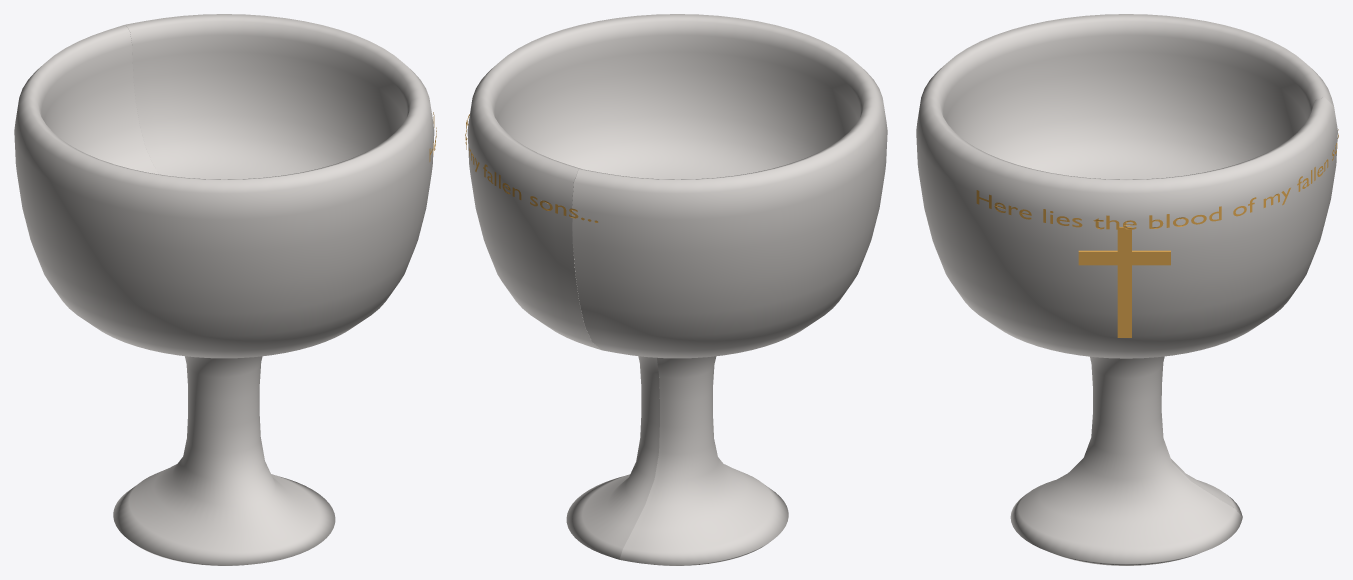
File: goblet.fbx
3 views of the same model, side by side, from view 1: azimuth 30°, elevation 25°; view 2: azimuth 150°, elevation 25°; view 3: azimuth 270°, elevation 25° (orthographic).
Parts seen in each view (by area): view 1: Cube; view 2: Cube, Text; view 3: Cube, Text, Cube.002, Cube.001.
Boxes of the visible parts, left/top/right/bottom form: Cube: left=14, top=14, right=434, bottom=565; Cube: left=467, top=14, right=887, bottom=565; Text: left=465, top=114, right=598, bottom=222; Cube: left=916, top=14, right=1337, bottom=565; Text: left=976, top=129, right=1338, bottom=229; Cube.002: left=1117, top=226, right=1131, bottom=337; Cube.001: left=1078, top=250, right=1170, bottom=265.
Size of the model in its own units: 393 by 438 by 393.
